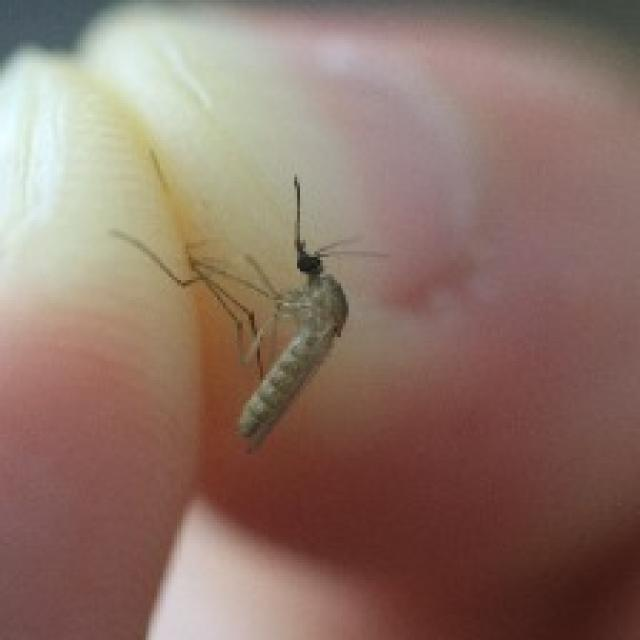culex: (109, 172, 388, 454)
